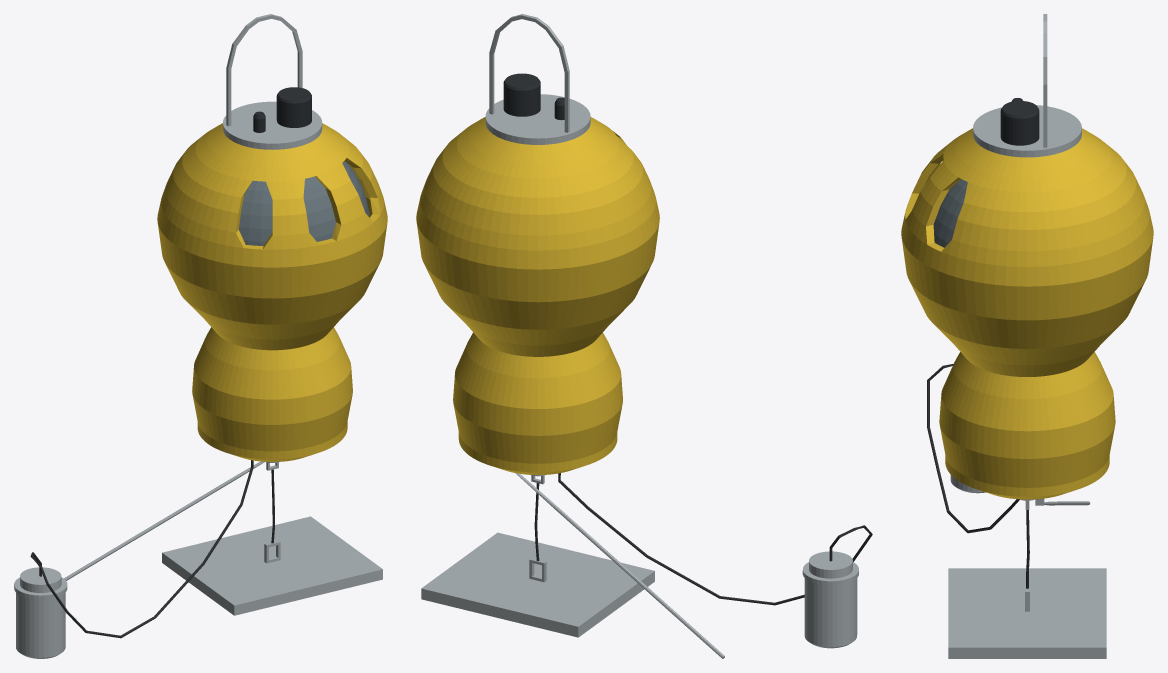
The picture shows the model from 3 angles, left to right: view 1: azimuth 30°, elevation 25°; view 2: azimuth 150°, elevation 25°; view 3: azimuth 270°, elevation 25°; orthographic projection. The views are drawn at different scales.
Visible parts, largest first — view 1: 01_hollow_two_bulge_cover_three_real_windows, 08_seafloor_anchor_plate, 15_separate_grounded_geophone, 02_17inch_electronics_sphere_hidden_flat_bearing, 04_top_instrument_plate, 05_acoustic_recovery_transducer, 07_lifting_bail, 16_loose_signal_cable, 14_lowered_deployment_arm; view 2: 01_hollow_two_bulge_cover_three_real_windows, 08_seafloor_anchor_plate, 15_separate_grounded_geophone, 04_top_instrument_plate, 05_acoustic_recovery_transducer, 07_lifting_bail, 16_loose_signal_cable, 14_lowered_deployment_arm; view 3: 01_hollow_two_bulge_cover_three_real_windows, 08_seafloor_anchor_plate, 04_top_instrument_plate, 05_acoustic_recovery_transducer, 02_17inch_electronics_sphere_hidden_flat_bearing, 16_loose_signal_cable, 07_lifting_bail.
Part boxes in pixels (left/top/right/bottom): 01_hollow_two_bulge_cover_three_real_windows: left=157, top=123, right=387, bottom=461; 08_seafloor_anchor_plate: left=162, top=516, right=382, bottom=615; 15_separate_grounded_geophone: left=14, top=567, right=67, bottom=658; 02_17inch_electronics_sphere_hidden_flat_bearing: left=238, top=161, right=369, bottom=245; 04_top_instrument_plate: left=223, top=101, right=322, bottom=149; 05_acoustic_recovery_transducer: left=276, top=87, right=311, bottom=127; 07_lifting_bail: left=226, top=14, right=302, bottom=126; 16_loose_signal_cable: left=30, top=460, right=253, bottom=638; 14_lowered_deployment_arm: left=64, top=461, right=264, bottom=580; 01_hollow_two_bulge_cover_three_real_windows: left=416, top=117, right=659, bottom=474; 08_seafloor_anchor_plate: left=421, top=532, right=654, bottom=637; 15_separate_grounded_geophone: left=802, top=551, right=858, bottom=648; 04_top_instrument_plate: left=485, top=94, right=590, bottom=144; 05_acoustic_recovery_transducer: left=503, top=73, right=540, bottom=116; 07_lifting_bail: left=489, top=14, right=569, bottom=132; 16_loose_signal_cable: left=558, top=473, right=872, bottom=605; 14_lowered_deployment_arm: left=515, top=473, right=724, bottom=658; 01_hollow_two_bulge_cover_three_real_windows: left=901, top=128, right=1153, bottom=499; 08_seafloor_anchor_plate: left=948, top=568, right=1106, bottom=658; 04_top_instrument_plate: left=973, top=105, right=1081, bottom=157; 05_acoustic_recovery_transducer: left=1000, top=101, right=1039, bottom=145; 02_17inch_electronics_sphere_hidden_flat_bearing: left=933, top=179, right=967, bottom=247; 16_loose_signal_cable: left=927, top=364, right=1019, bottom=533; 07_lifting_bail: left=1043, top=14, right=1047, bottom=147.
Size of the model in its own units: 0.964 by 1.34 by 0.51.
